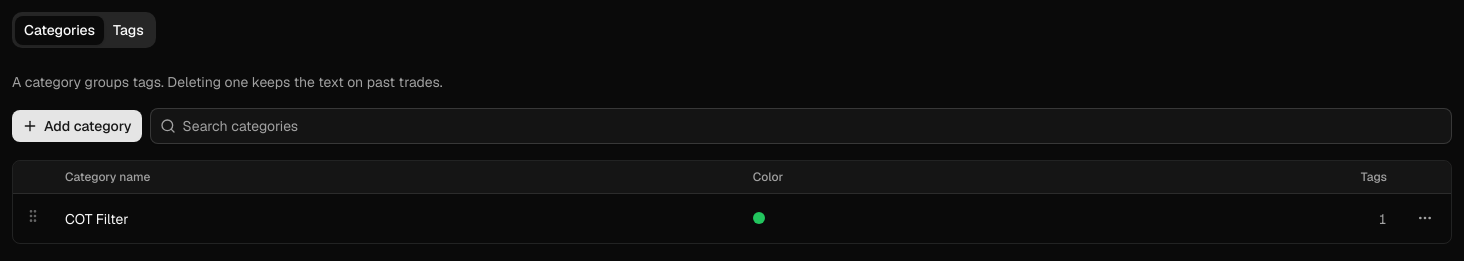
Test case: the two tabs › shows how many trades use each tag, once the tally answers
The width and height of the screenshot is (1464, 261).
What coordinates should you click on to do the following:
click the tab "Tags"
I would click on:
 (128, 30)
Its box is [104, 16, 153, 44].
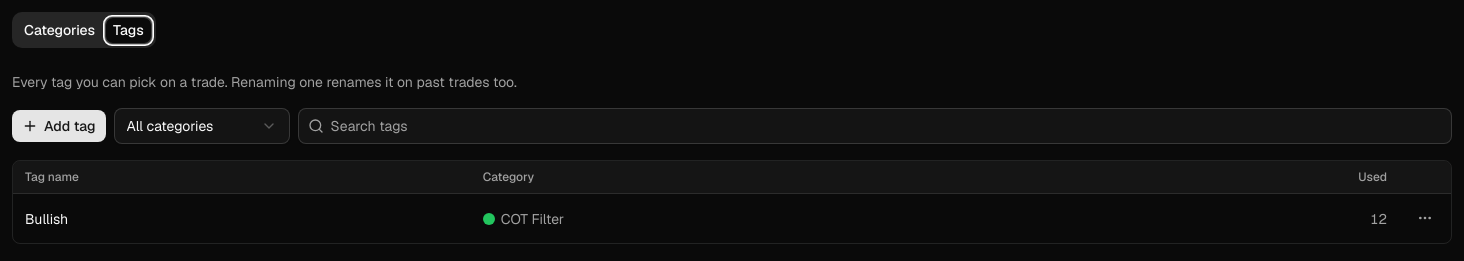
Check: the text "12" is shown, box [1090, 194, 1399, 243]
